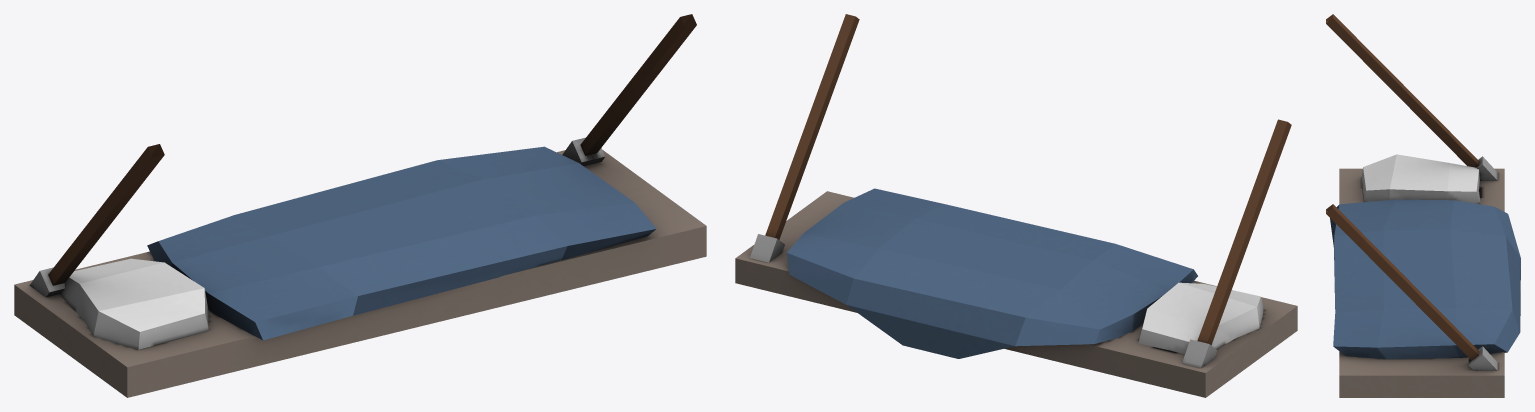
Rendered from Prisonbed 1.fbx.
3 renders of one model, left to right at view 1: azimuth 30°, elevation 25°; view 2: azimuth 150°, elevation 25°; view 3: azimuth 270°, elevation 25°, orthographic. The views are drawn at different scales.
Visible parts, largest first — view 1: Cube.161; view 2: Cube.161; view 3: Cube.161.
Boxes of the visible parts, x1,y1,x2,y2 form: Cube.161: (14,14,706,397); Cube.161: (735,14,1297,397); Cube.161: (1326,14,1520,397).
Size of the model in its own units: 1.4 by 0.6143 by 0.5574.
